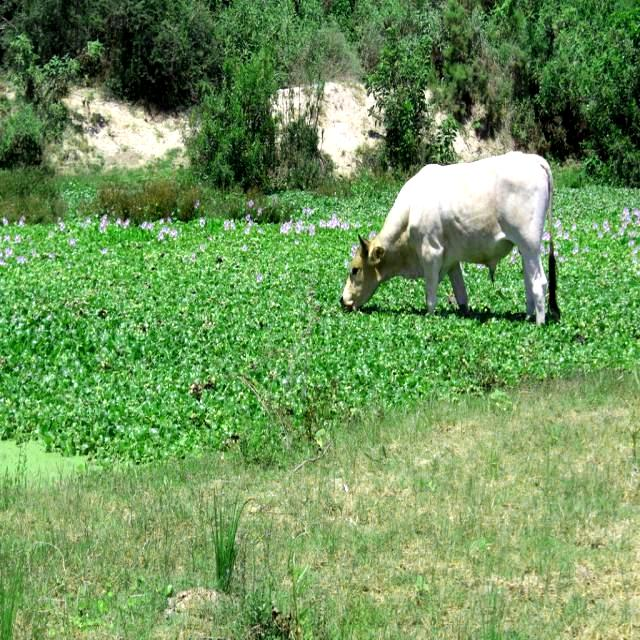COW: (341, 151, 560, 324)
